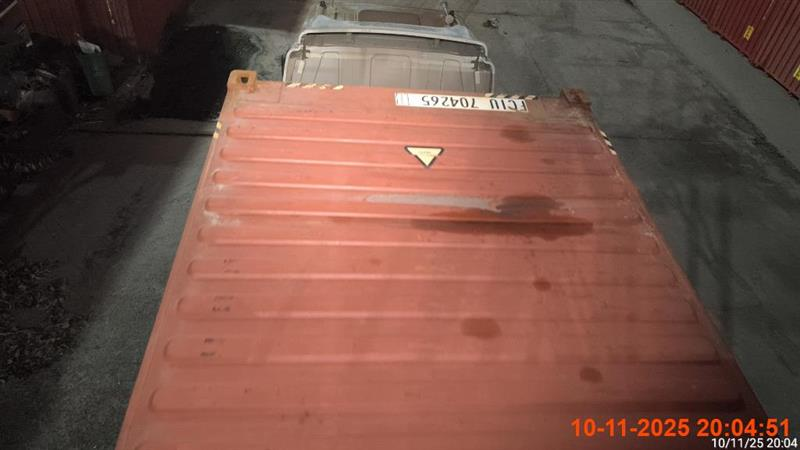broken: (116, 69, 770, 441), (281, 0, 496, 94)
